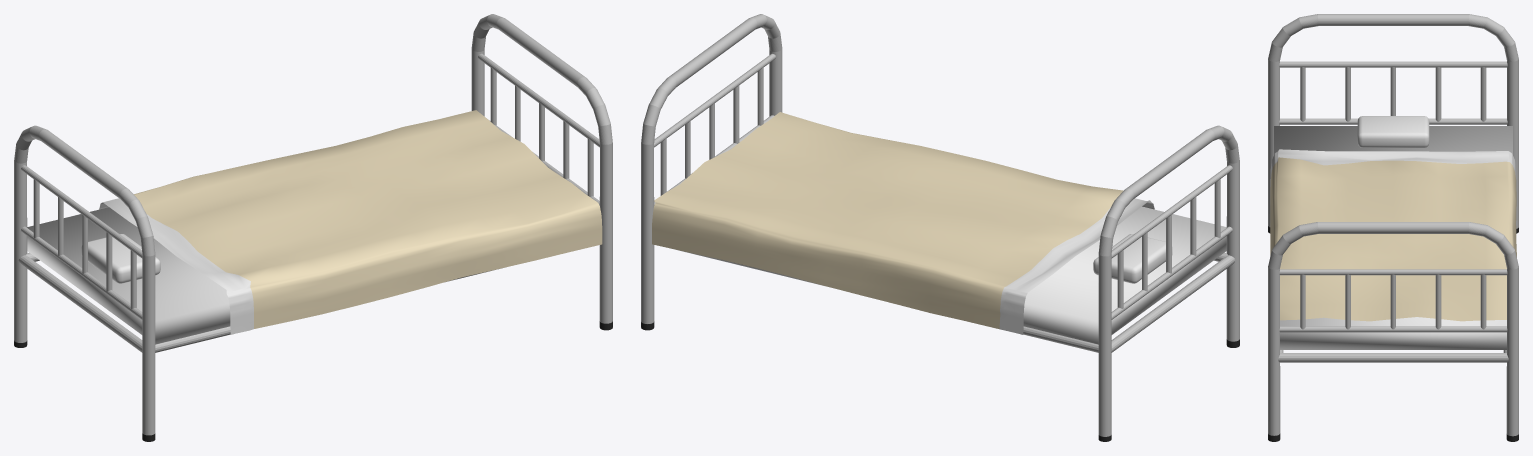
Rendered from InfirmaryBed_Single.fbx.
3 views of the same model, side by side, from view 1: azimuth 30°, elevation 25°; view 2: azimuth 150°, elevation 25°; view 3: azimuth 270°, elevation 25° (orthographic). The views are drawn at different scales.
Parts seen in each view (by area): view 1: 007.bed; view 2: 007.bed; view 3: 007.bed.
Boxes of the visible parts, x1,y1,x2,y2 form: 007.bed: (14, 14, 612, 441); 007.bed: (641, 14, 1239, 441); 007.bed: (1268, 14, 1518, 441).
Bounding box in the file's own units: 211 × 100 × 105.
